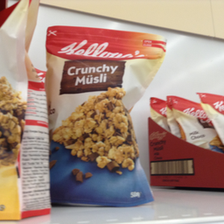cereal: (45, 26, 168, 208)
